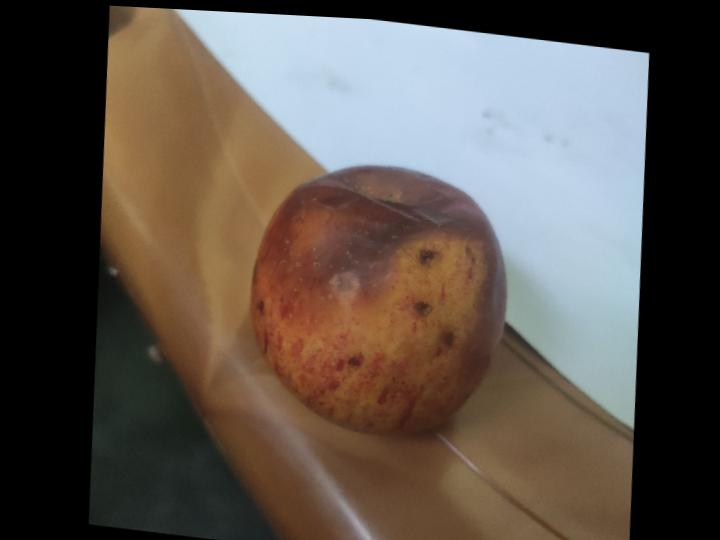apple: (250, 168, 503, 434)
bruise_discoloration: (250, 166, 503, 356)
rot_mold_decay: (412, 301, 430, 317), (418, 250, 437, 265), (346, 353, 362, 367), (440, 332, 452, 347)
